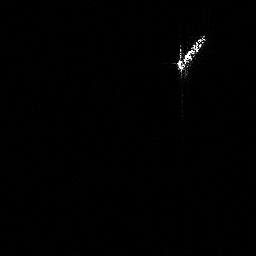ship: (173, 31, 209, 76)
